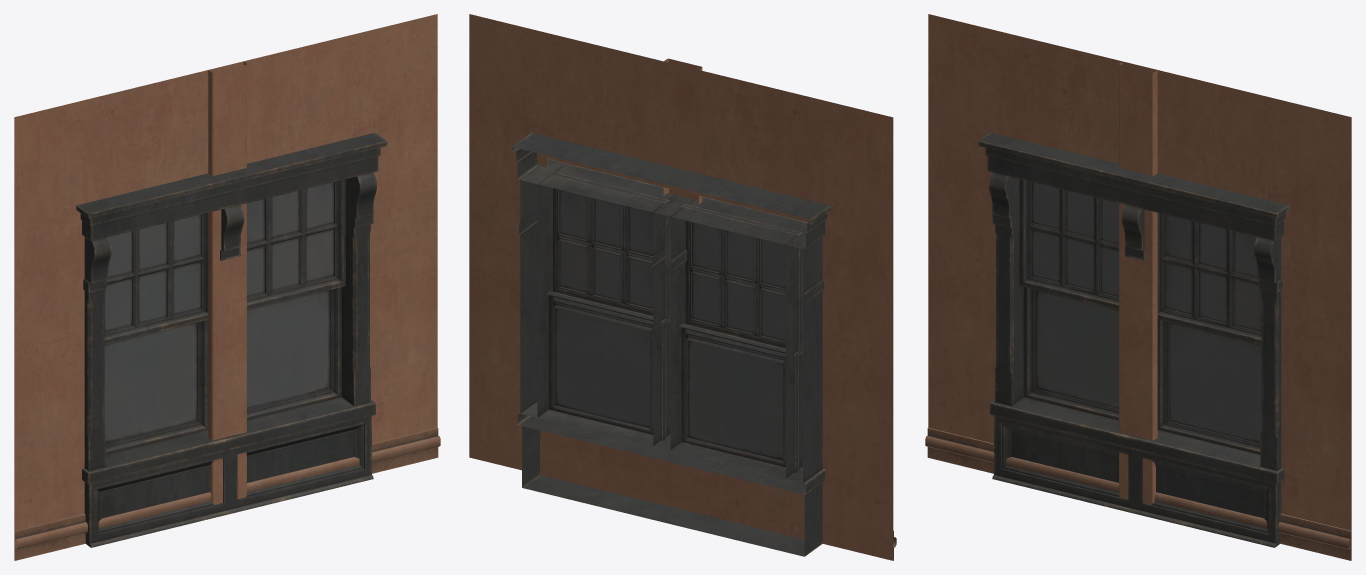
Rendered from facade.glb.
The picture shows the model from 3 angles, left to right: view 1: azimuth 30°, elevation 25°; view 2: azimuth 150°, elevation 25°; view 3: azimuth 330°, elevation 25°; orthographic projection.
Visible parts, largest first — view 1: window_centered_large_01, wall_window_centered_large_01, wall_pier_standard_01, cornice_standard_standard_01; view 2: wall_window_centered_large_01, window_centered_large_01; view 3: window_centered_large_01, wall_window_centered_large_01, wall_pier_standard_01, cornice_standard_standard_01.
Boxes of the visible parts, x1,y1,x2,y2 form: window_centered_large_01: (76,132,387,547); wall_window_centered_large_01: (14,14,437,560); wall_pier_standard_01: (208,62,246,504); cornice_standard_standard_01: (14,427,440,560); wall_window_centered_large_01: (469,14,893,560); window_centered_large_01: (512,132,830,556); window_centered_large_01: (978,132,1289,547); wall_window_centered_large_01: (928,14,1351,560); wall_pier_standard_01: (1119,62,1157,504); cornice_standard_standard_01: (925,427,1351,560).
Bounding box in the file's own units: 3 × 3 × 0.39.
4 materials, 4 textured.
